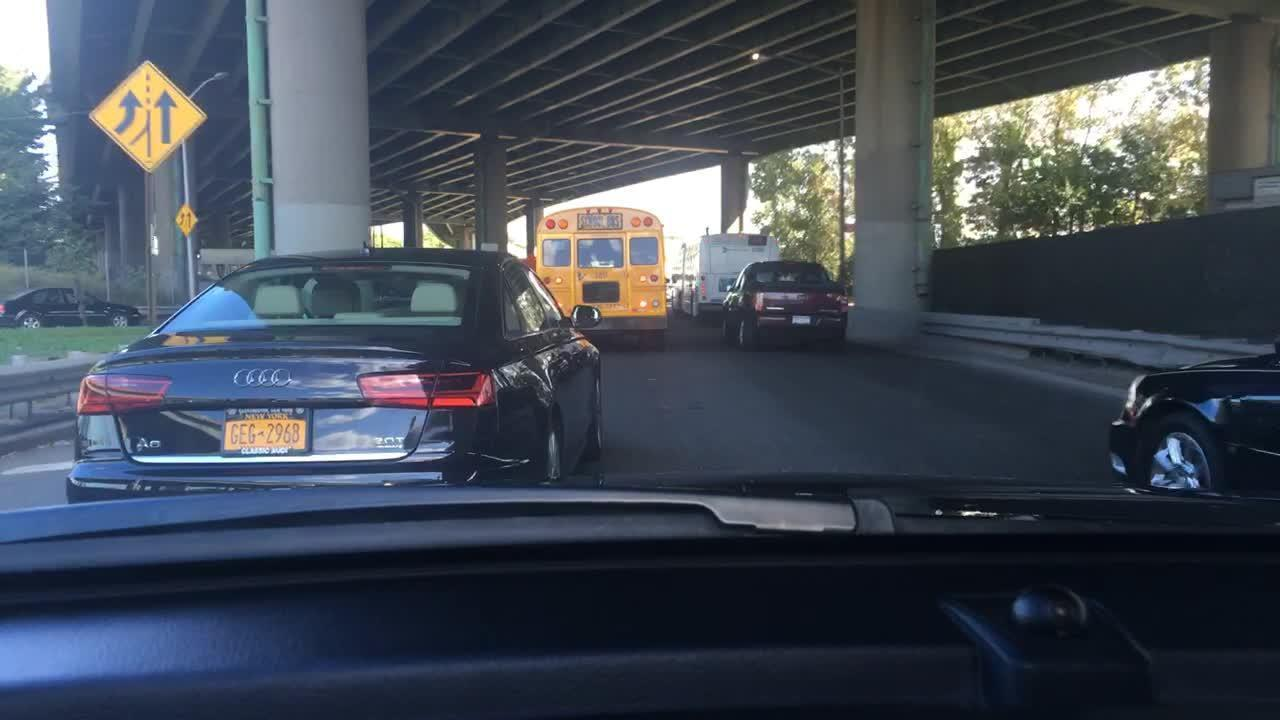Audi: (223, 358, 323, 410)
